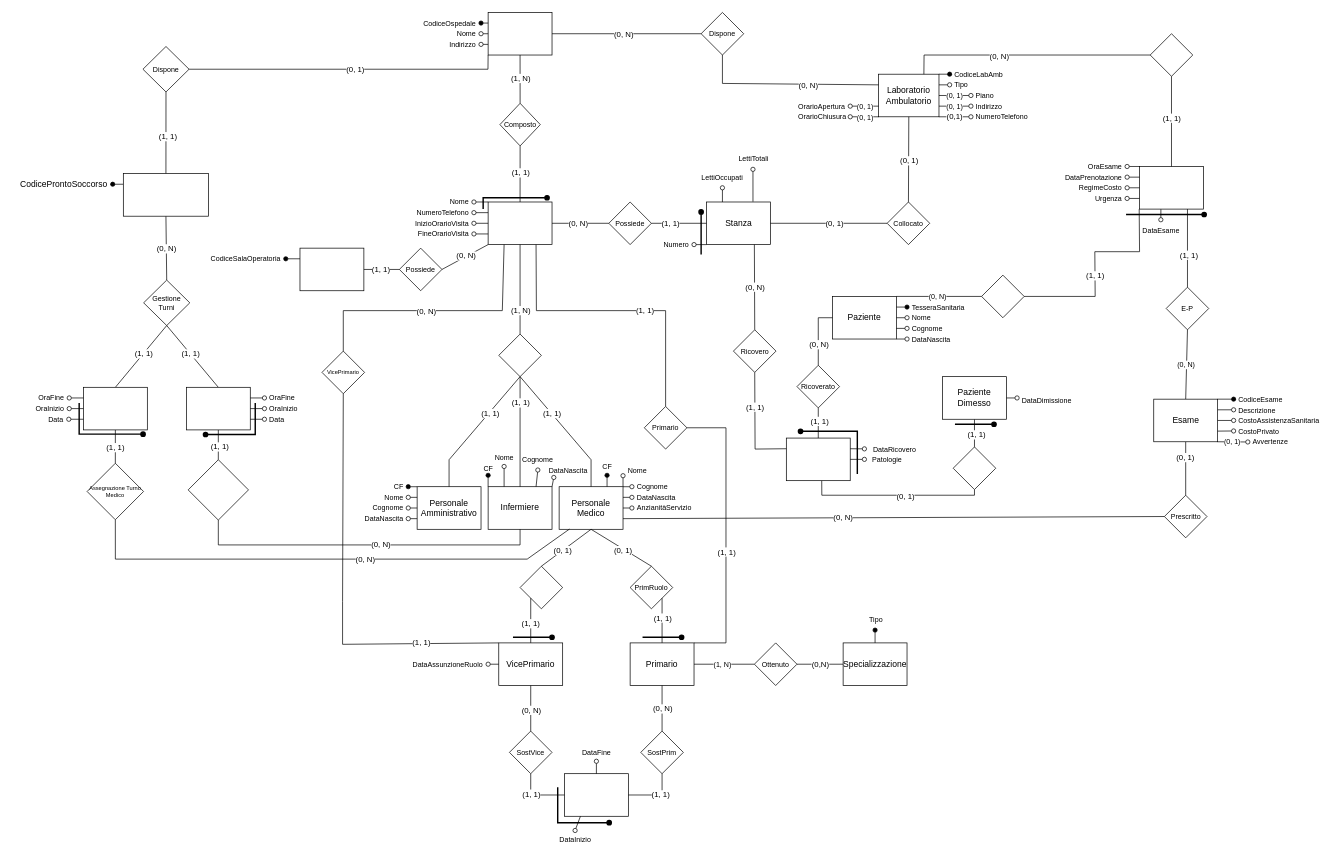
This 1341x861 diagram has some shape labels left out. Each missing label, with the centre of its shape:
"Assegnazione Turno Infermiere" goes at point 217,489.
"Dimissione" goes at point 974,468.
"Lavora" goes at point 519,355.
"Ospedale" goes at point 519,33.
"Paziente Ricoverato" goes at point 818,459.
"Prenota" goes at point 1002,296.
"Prenotazione" goes at point 1171,187.
"Presso" goes at point 1171,54.
"Pronto Soccorso" goes at point 166,194.
"Reparto" goes at point 519,223.
"SalaOperatoria" goes at point 331,269.
"Sostituzione" goes at point 596,794.
"Turno Lavorativo Infermiere" goes at point 218,408.
"Turno Lavorativo Medico" goes at point 115,408.
"ViceRuolo" goes at point 541,587.
